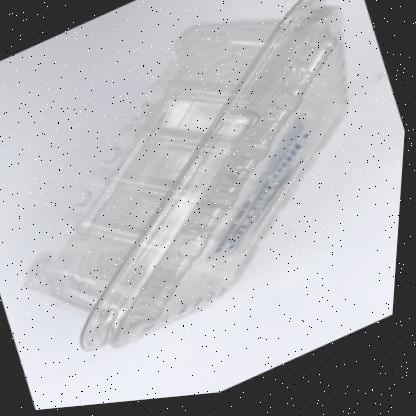Plastic: (28, 0, 346, 353)
